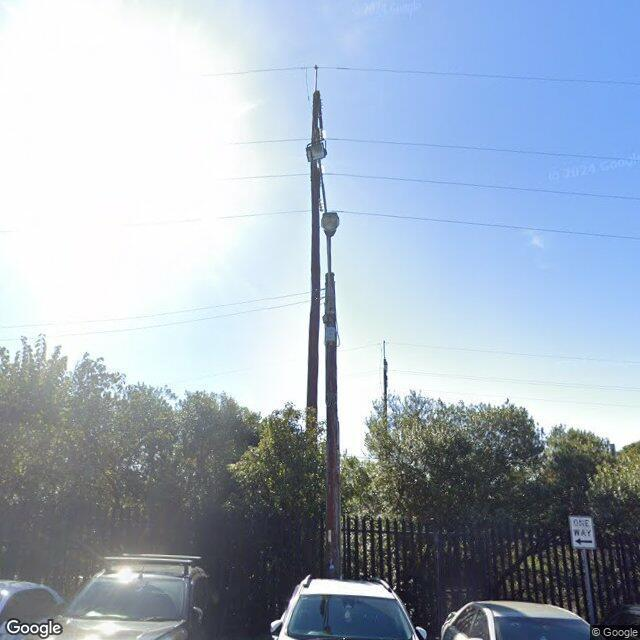HV-transmission: (310, 66, 324, 212)
streetlight: (322, 211, 338, 317)
timber-pole: (306, 91, 320, 450), (325, 273, 339, 580), (383, 358, 388, 436)
